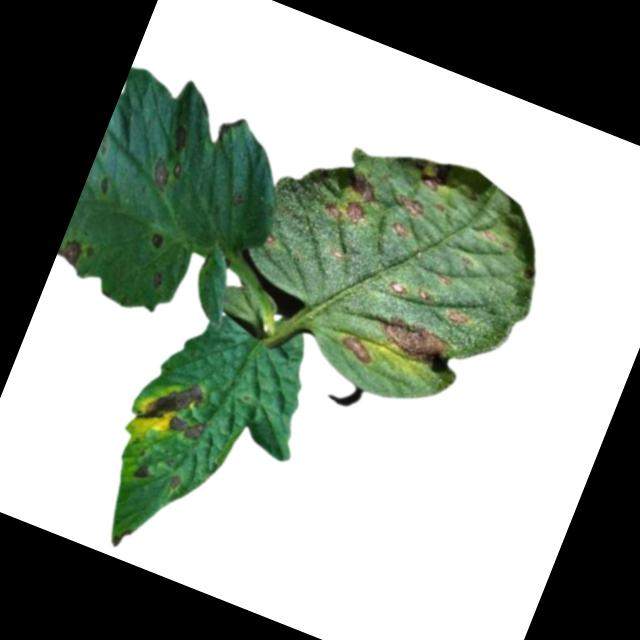Early_blight: (372, 312, 457, 372), (138, 369, 207, 436), (402, 152, 454, 196), (317, 188, 369, 231), (163, 411, 209, 448), (146, 153, 186, 195), (343, 168, 386, 206), (336, 332, 379, 367), (393, 191, 431, 222), (166, 122, 194, 159), (54, 236, 85, 269), (442, 304, 470, 330), (384, 277, 411, 302), (387, 218, 413, 243), (146, 231, 168, 256), (413, 284, 436, 307), (132, 460, 154, 484), (164, 471, 187, 493), (148, 270, 166, 293)
